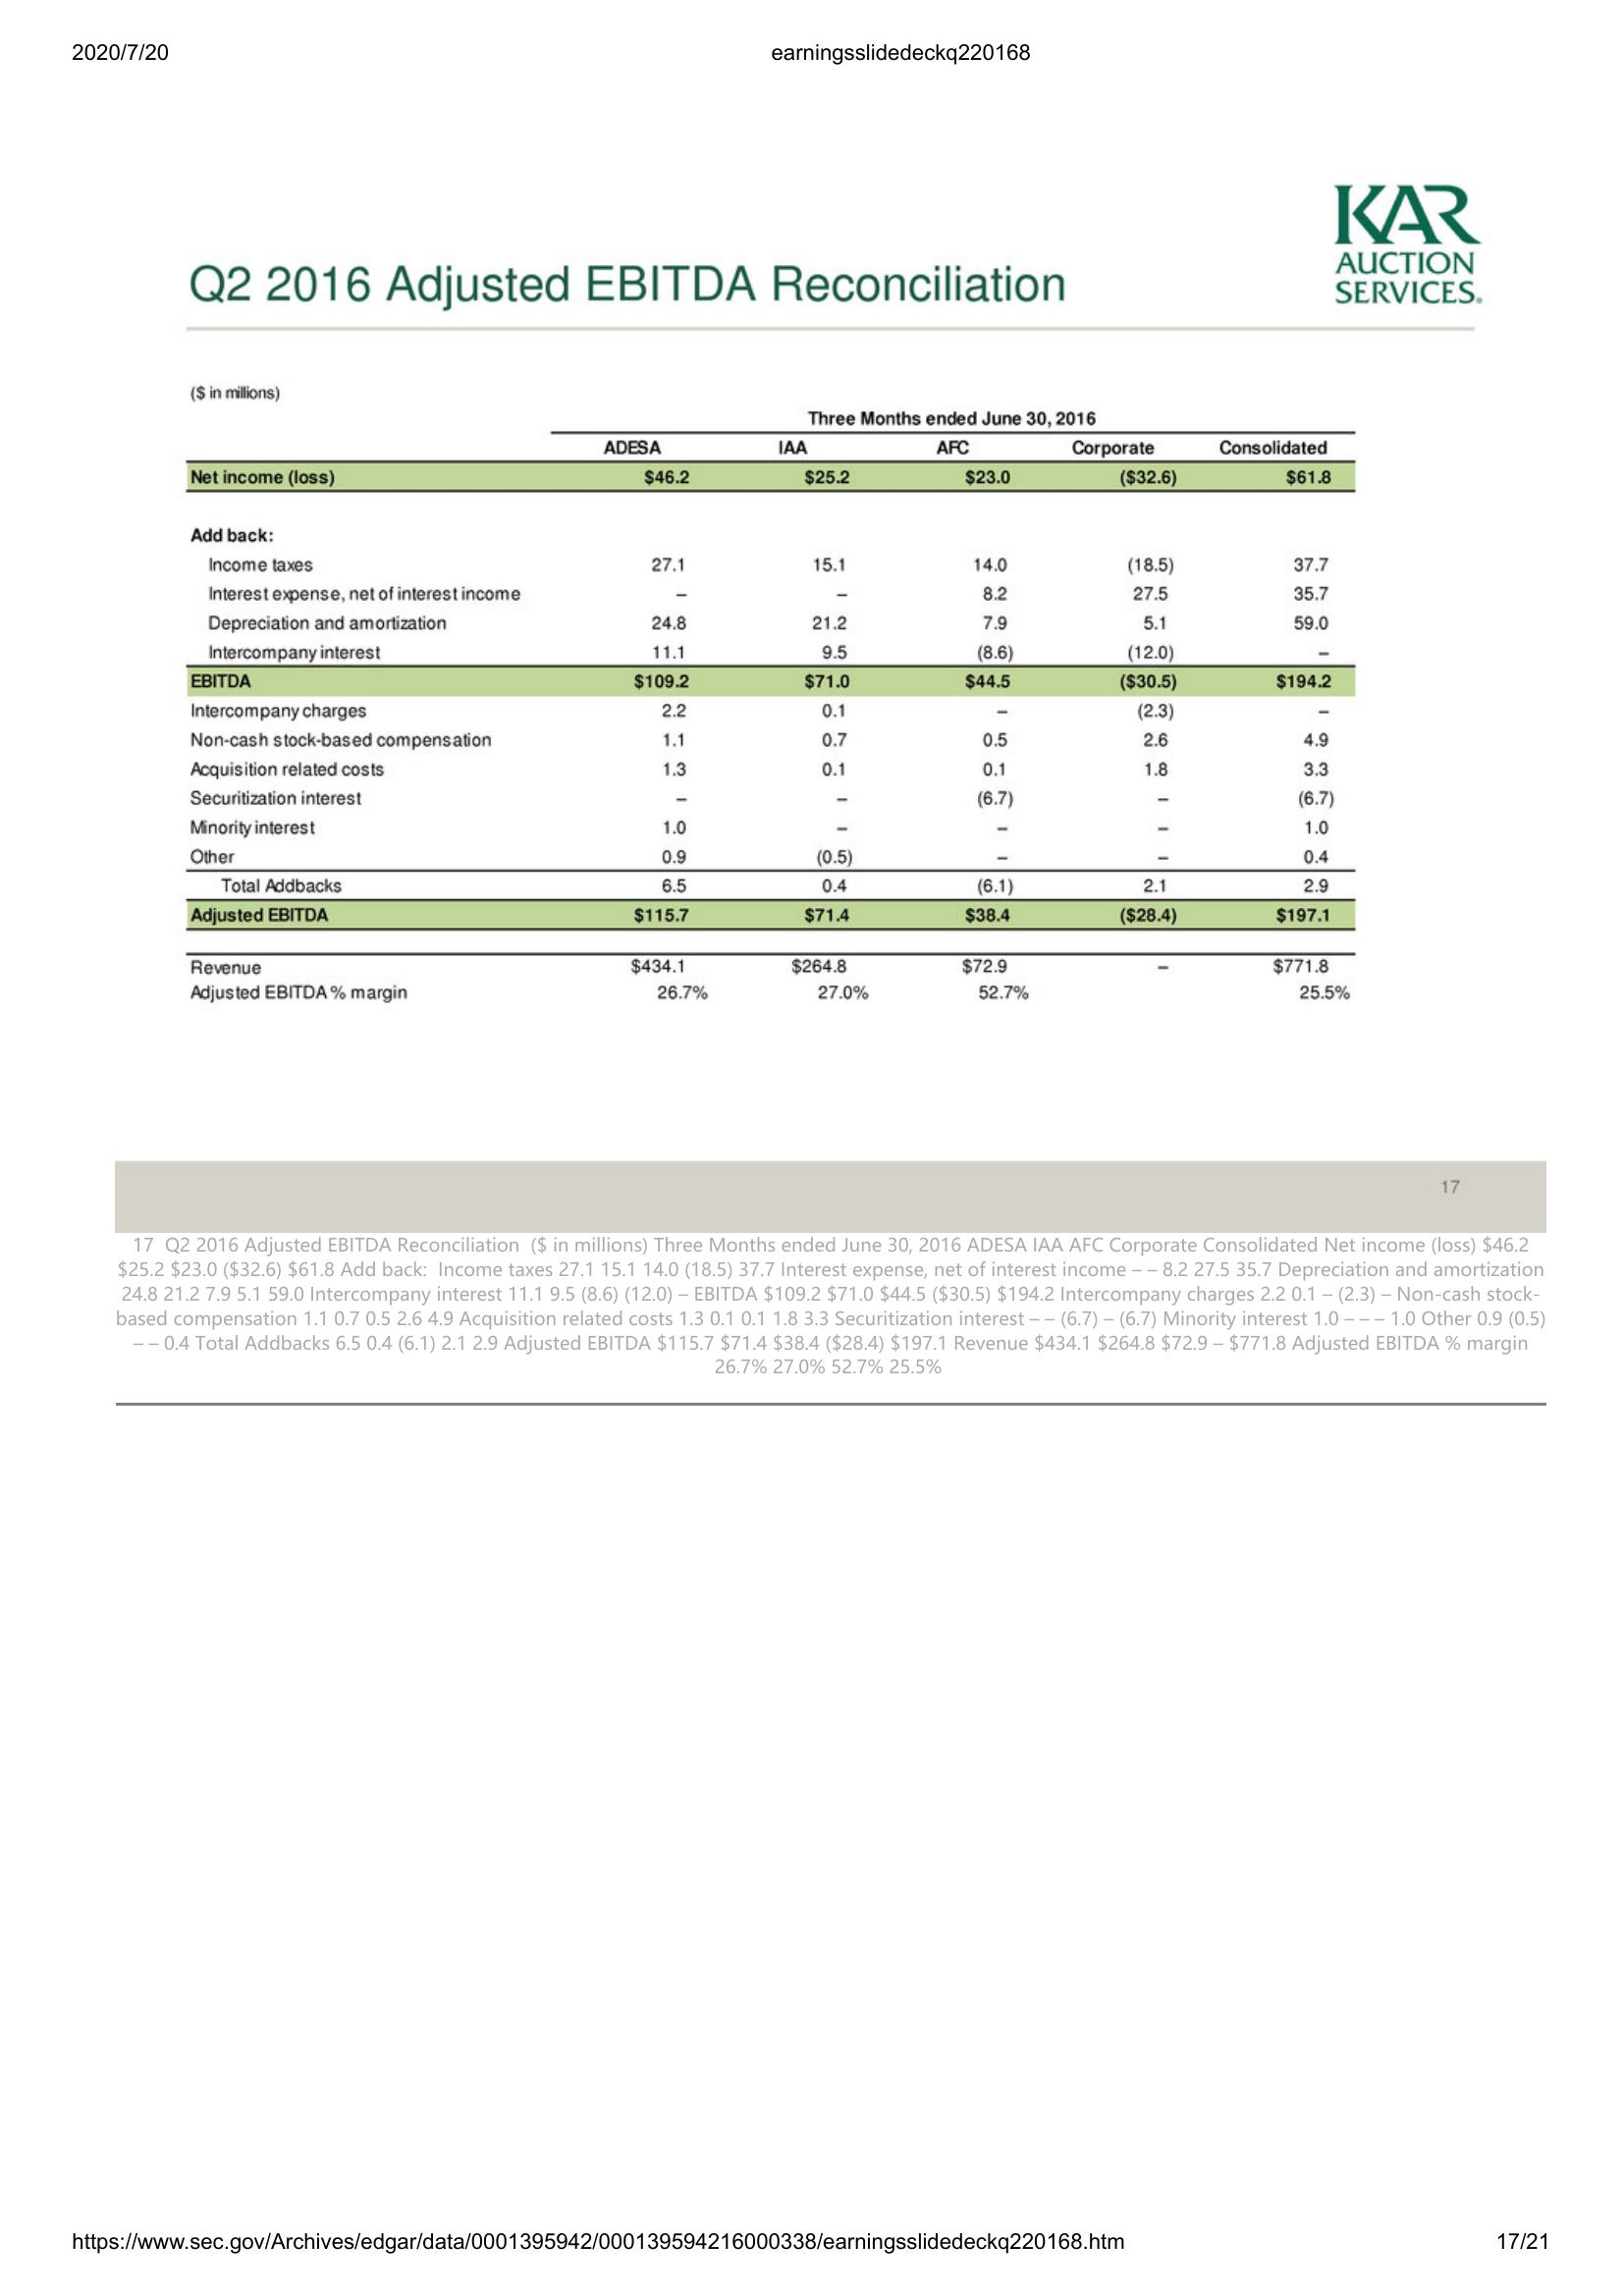table: (177, 407, 1367, 1004)
